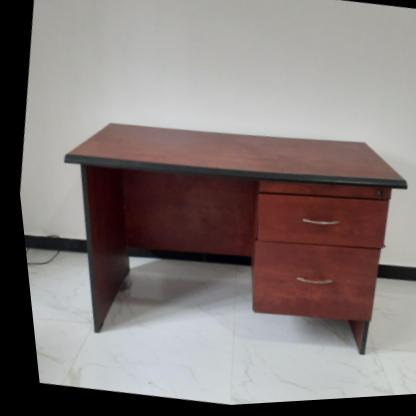Table: (14, 74, 416, 406)
